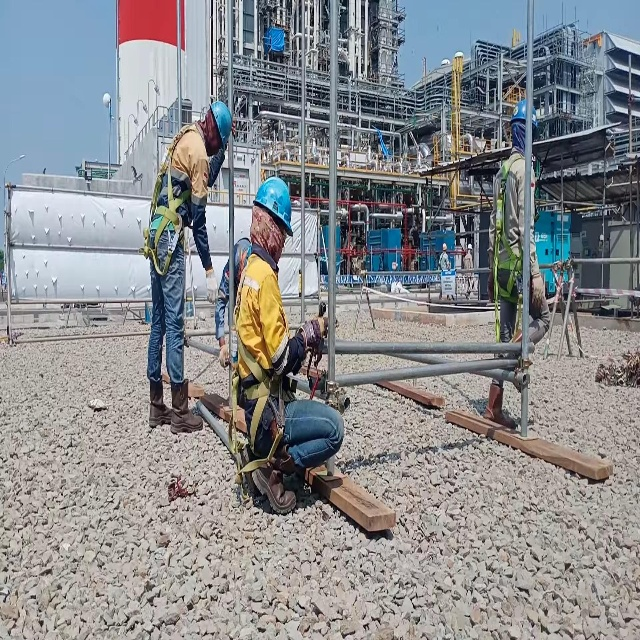Arnes_seguridad: (228, 255, 282, 477), (142, 119, 197, 277), (489, 147, 528, 339)
